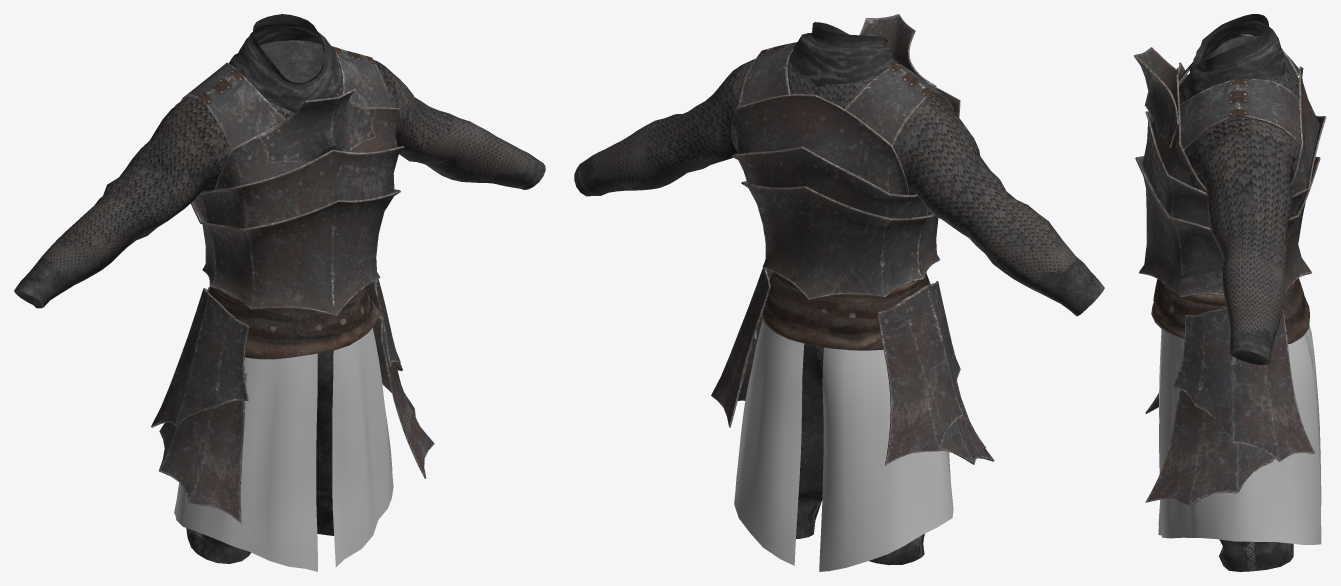
File: sk_dg_uruk_chest_elite_d.fbx
3 views of the same model, side by side, from view 1: azimuth 30°, elevation 25°; view 2: azimuth 150°, elevation 25°; view 3: azimuth 270°, elevation 25° (orthographic).
Parts seen in each view (by area): view 1: sk_dg_uruk_chest_elite_d.2, sk_dg_uruk_chest_elite_d.1, sk_dg_uruk_chest_elite_d.skirt.0, sk_dg_uruk_chest_elite_d.skirt.1, sk_dg_uruk_chest_elite_d.0; view 2: sk_dg_uruk_chest_elite_d.2, sk_dg_uruk_chest_elite_d.1, sk_dg_uruk_chest_elite_d.skirt.0, sk_dg_uruk_chest_elite_d.skirt.1, sk_dg_uruk_chest_elite_d.0; view 3: sk_dg_uruk_chest_elite_d.1, sk_dg_uruk_chest_elite_d.2, sk_dg_uruk_chest_elite_d.skirt.1, sk_dg_uruk_chest_elite_d.skirt.0, sk_dg_uruk_chest_elite_d.0.
Boxes of the visible parts, box(x1,y1,x2,y2) form: sk_dg_uruk_chest_elite_d.2: box(175, 43, 404, 316); sk_dg_uruk_chest_elite_d.1: box(14, 40, 545, 359); sk_dg_uruk_chest_elite_d.skirt.0: box(174, 328, 393, 571); sk_dg_uruk_chest_elite_d.skirt.1: box(151, 279, 434, 523); sk_dg_uruk_chest_elite_d.0: box(186, 14, 342, 563); sk_dg_uruk_chest_elite_d.2: box(730, 14, 960, 300); sk_dg_uruk_chest_elite_d.1: box(574, 59, 1104, 350); sk_dg_uruk_chest_elite_d.skirt.0: box(734, 320, 953, 571); sk_dg_uruk_chest_elite_d.skirt.1: box(711, 259, 994, 465); sk_dg_uruk_chest_elite_d.0: box(789, 22, 924, 565); sk_dg_uruk_chest_elite_d.1: box(1151, 36, 1309, 364); sk_dg_uruk_chest_elite_d.2: box(1133, 34, 1326, 297); sk_dg_uruk_chest_elite_d.skirt.1: box(1145, 307, 1315, 506); sk_dg_uruk_chest_elite_d.skirt.0: box(1158, 324, 1321, 544); sk_dg_uruk_chest_elite_d.0: box(1187, 14, 1293, 571).
Bounding box in the file's own units: 1.35 × 0.436 × 1.28.
